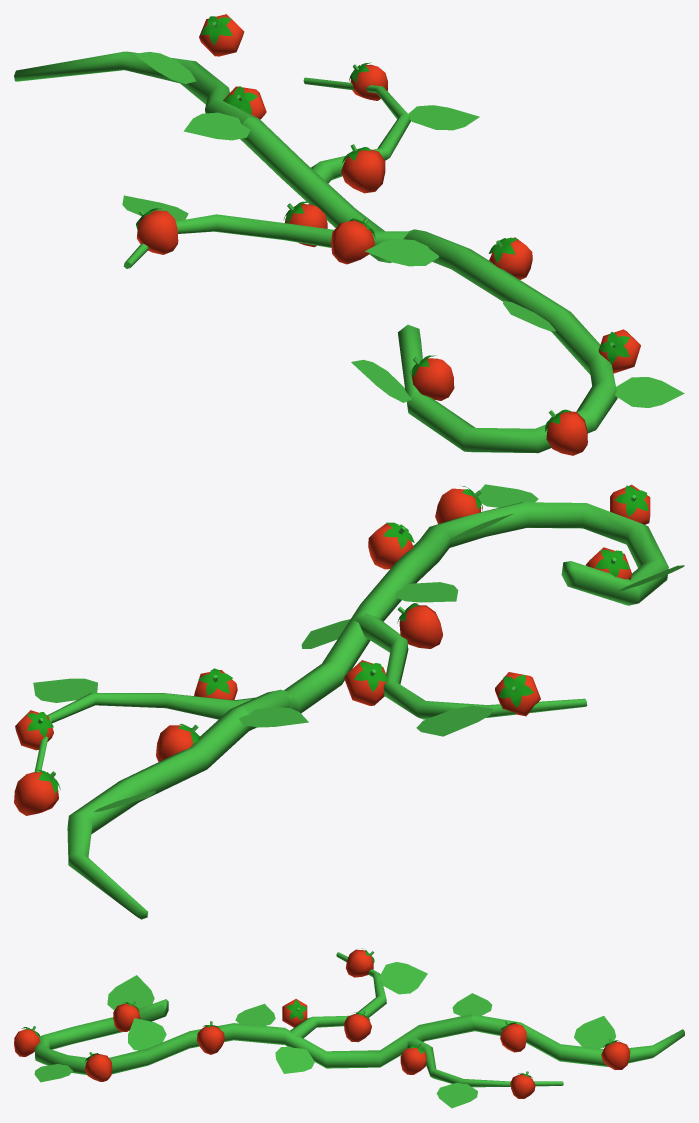
The model's file is caomei.fbx.
3 renders of one model, top to bottom at view 1: azimuth 30°, elevation 25°; view 2: azimuth 150°, elevation 25°; view 3: azimuth 270°, elevation 25°, orthographic. The views are drawn at different scales.
Parts seen in each view (by area): view 1: caomei; view 2: caomei; view 3: caomei.
Part boxes in pixels (x1,y1,x2,y2): caomei: [14, 14, 684, 455]; caomei: [14, 484, 684, 919]; caomei: [14, 948, 684, 1108].
Bounding box in the file's own units: 242 × 52.47 × 491.
